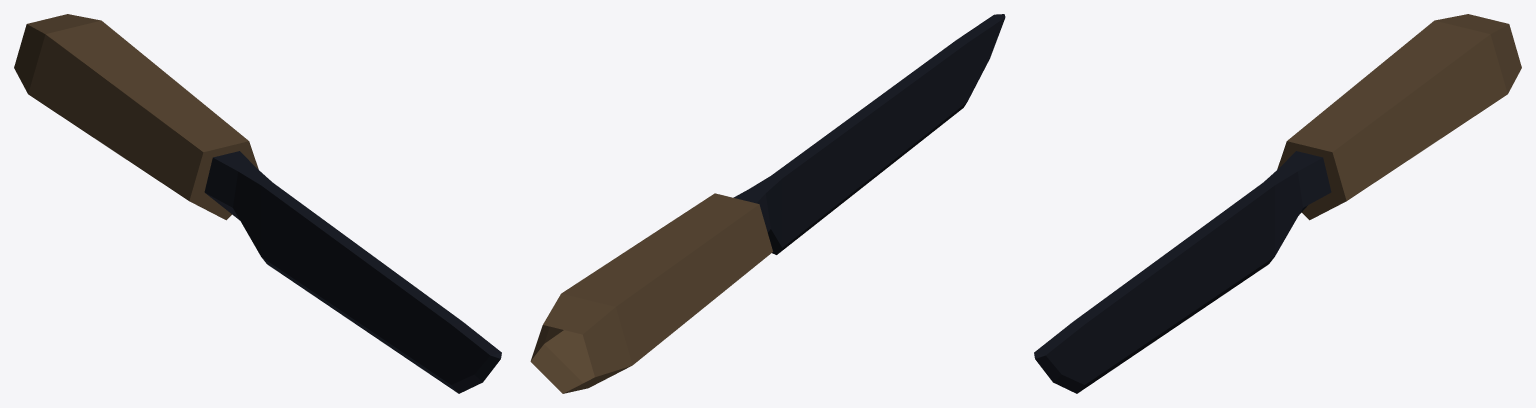
Rendered from DinnerKnife.fbx.
3 renders of one model, left to right at view 1: azimuth 30°, elevation 25°; view 2: azimuth 150°, elevation 25°; view 3: azimuth 330°, elevation 25°, orthographic. The views are drawn at different scales.
Visible parts, largest first — view 1: DinnerKnife; view 2: DinnerKnife; view 3: DinnerKnife.
Boxes of the visible parts, x1,y1,x2,y2 form: DinnerKnife: (14, 14, 501, 393); DinnerKnife: (530, 14, 1005, 393); DinnerKnife: (1034, 14, 1521, 393).
Size of the model in its own units: 3.96 by 3.97 by 34.25.
